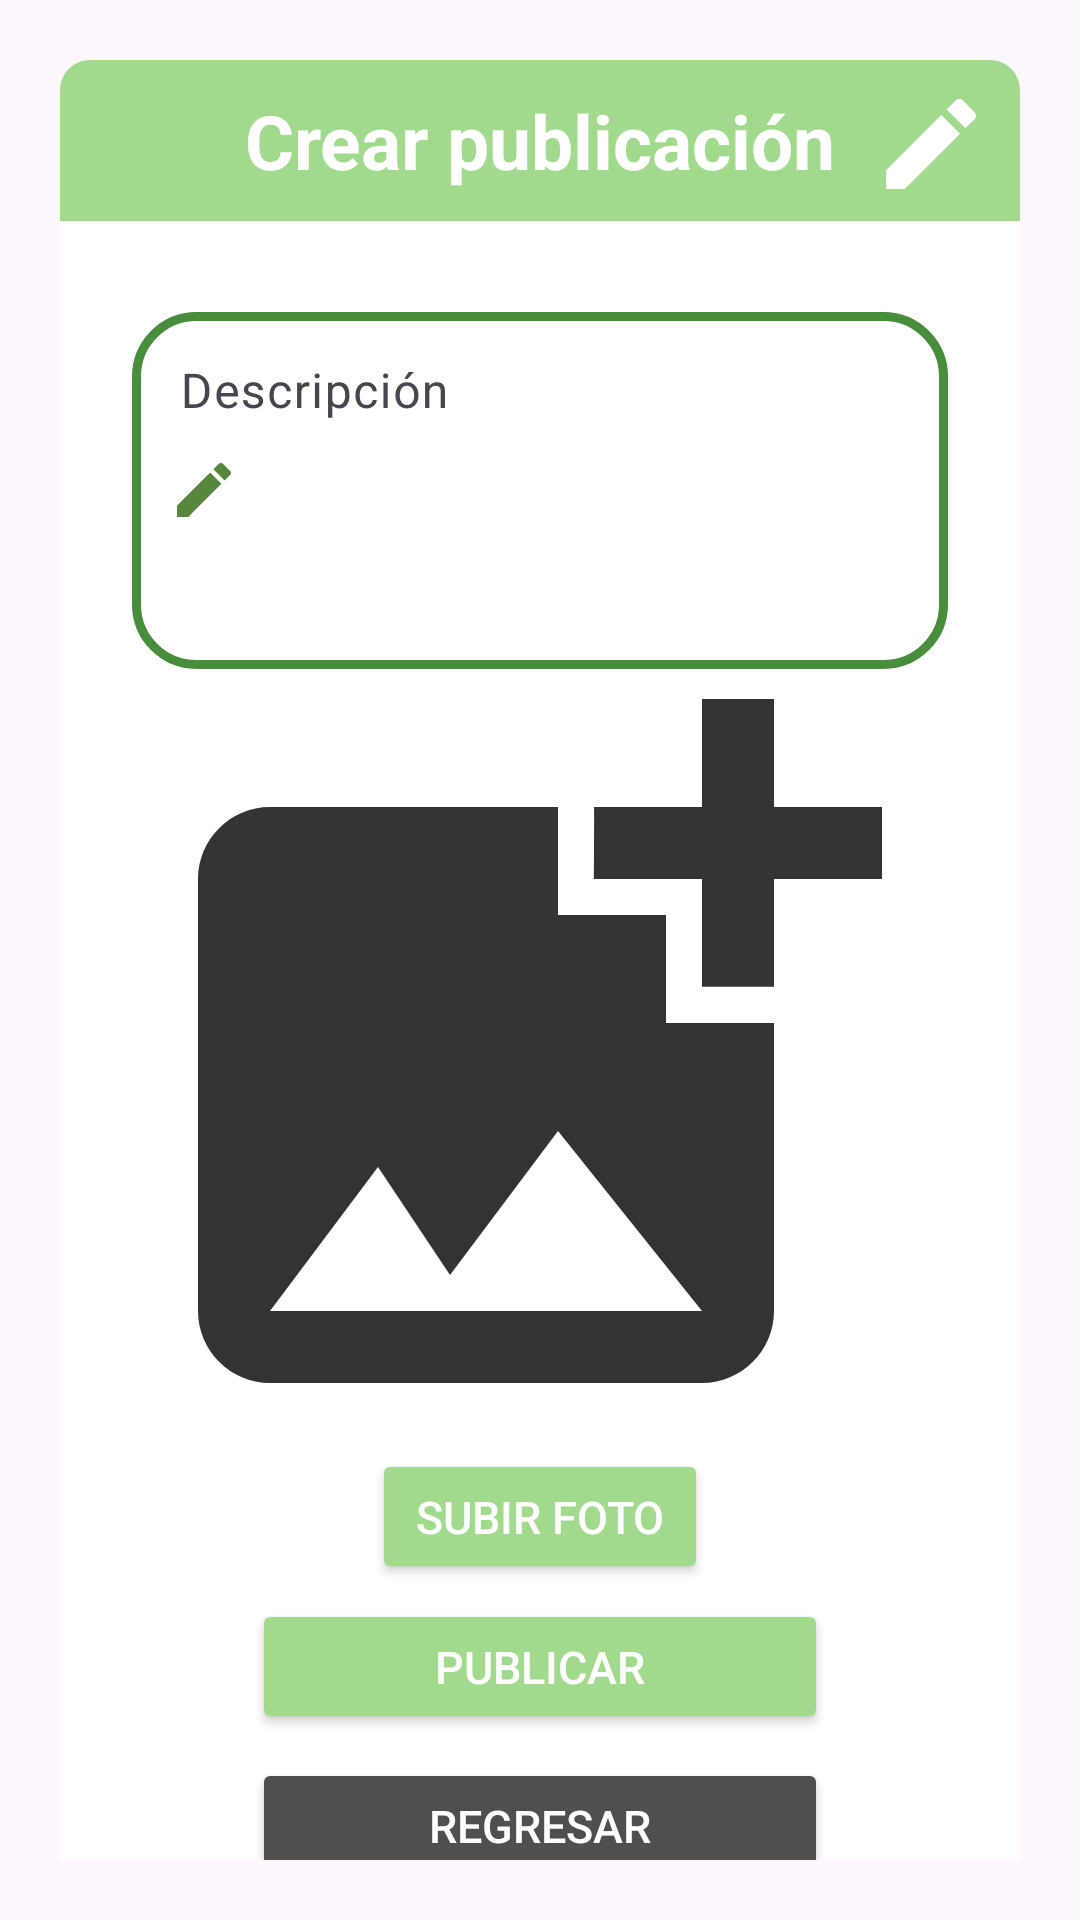

Screen size 1080×1920. Icon name, then its box in pixels as region(x1, y1, x2, y2):
create: region(886, 99, 976, 189)
